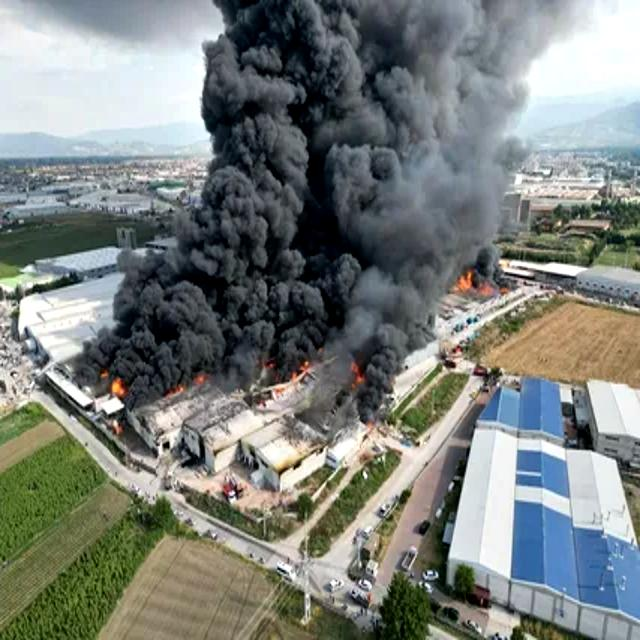Smoke: (80, 0, 538, 417)
